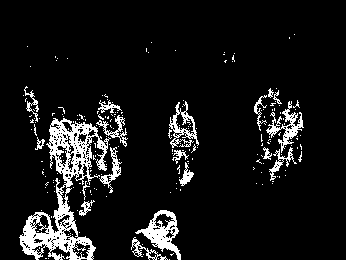person: (96, 93, 128, 194), (267, 100, 307, 177), (166, 95, 198, 189), (69, 114, 97, 216), (127, 209, 183, 260), (49, 105, 73, 212), (252, 87, 280, 159)
